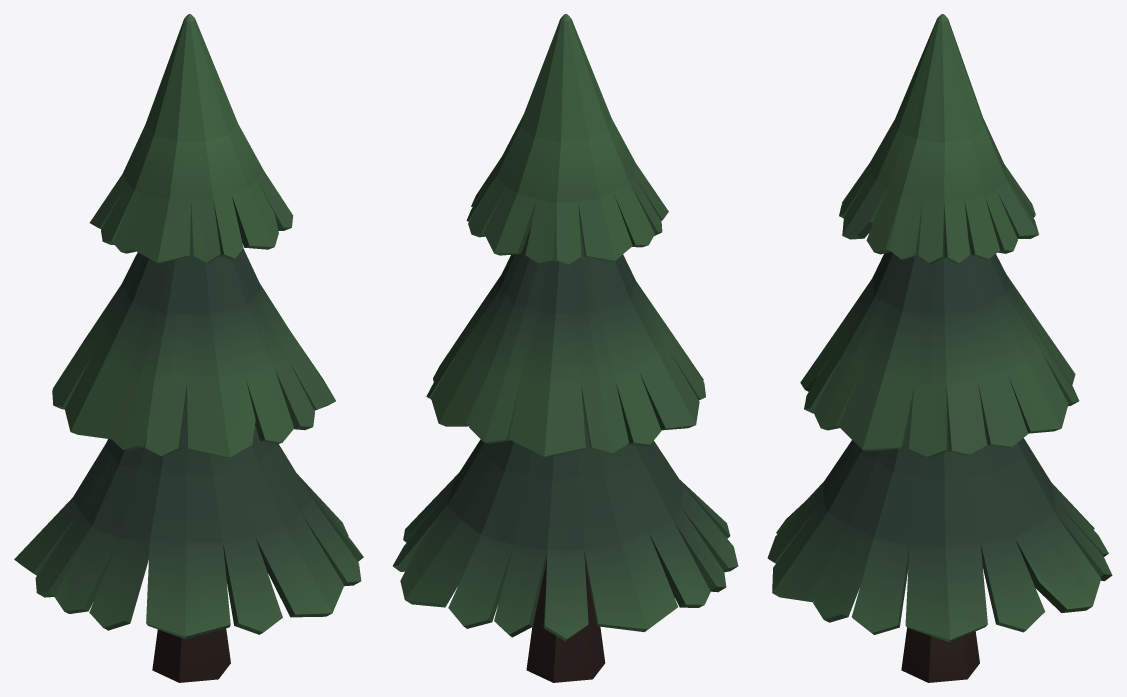
The model's file is mesh_tree_02.glb.
The picture shows the model from 3 angles, left to right: view 1: azimuth 30°, elevation 25°; view 2: azimuth 150°, elevation 25°; view 3: azimuth 270°, elevation 25°; orthographic projection.
Parts seen in each view (by area): view 1: mesh_tree_02; view 2: mesh_tree_02; view 3: mesh_tree_02.
Part boxes in pixels (box(x1,y1,x2,y2)): mesh_tree_02: box(14, 14, 363, 682); mesh_tree_02: box(393, 14, 738, 682); mesh_tree_02: box(767, 14, 1112, 682).
Size of the model in its own units: 1.72 by 3.54 by 1.7.
